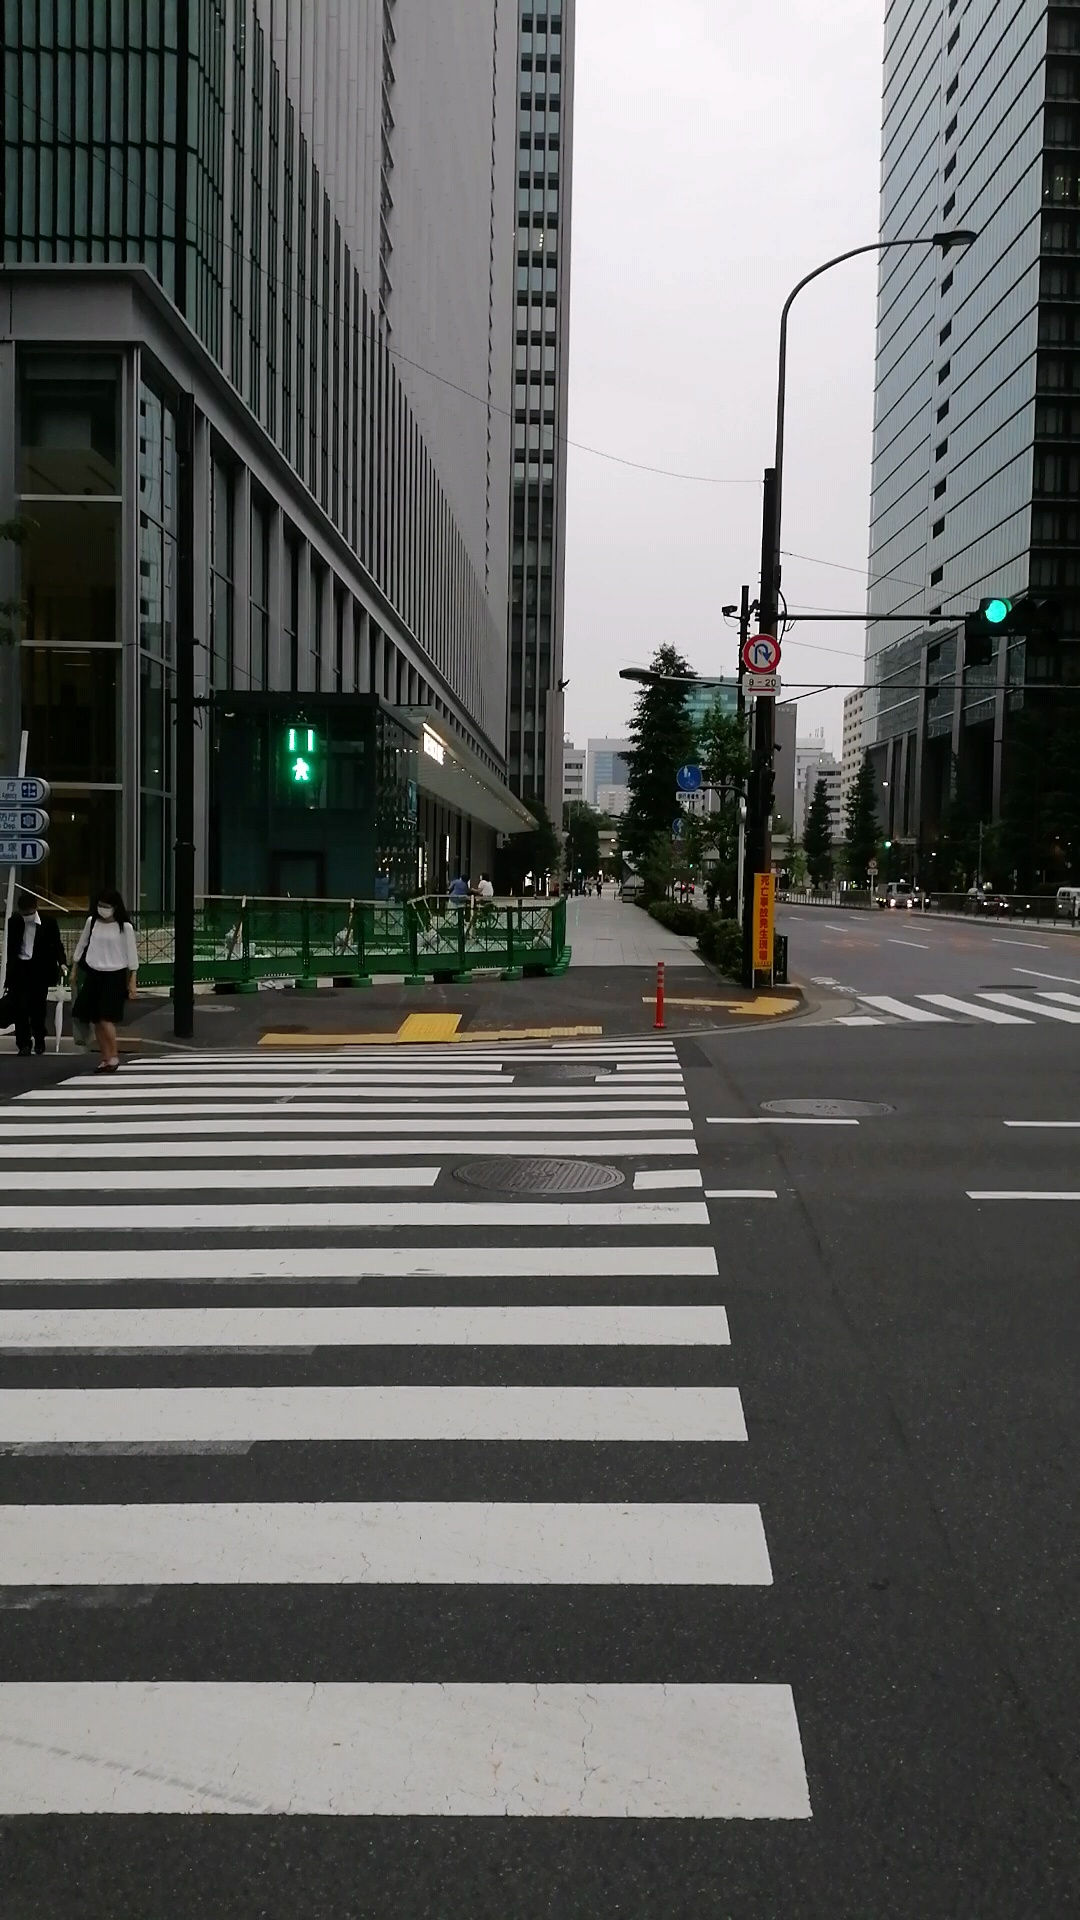green: (284, 721, 319, 790)
